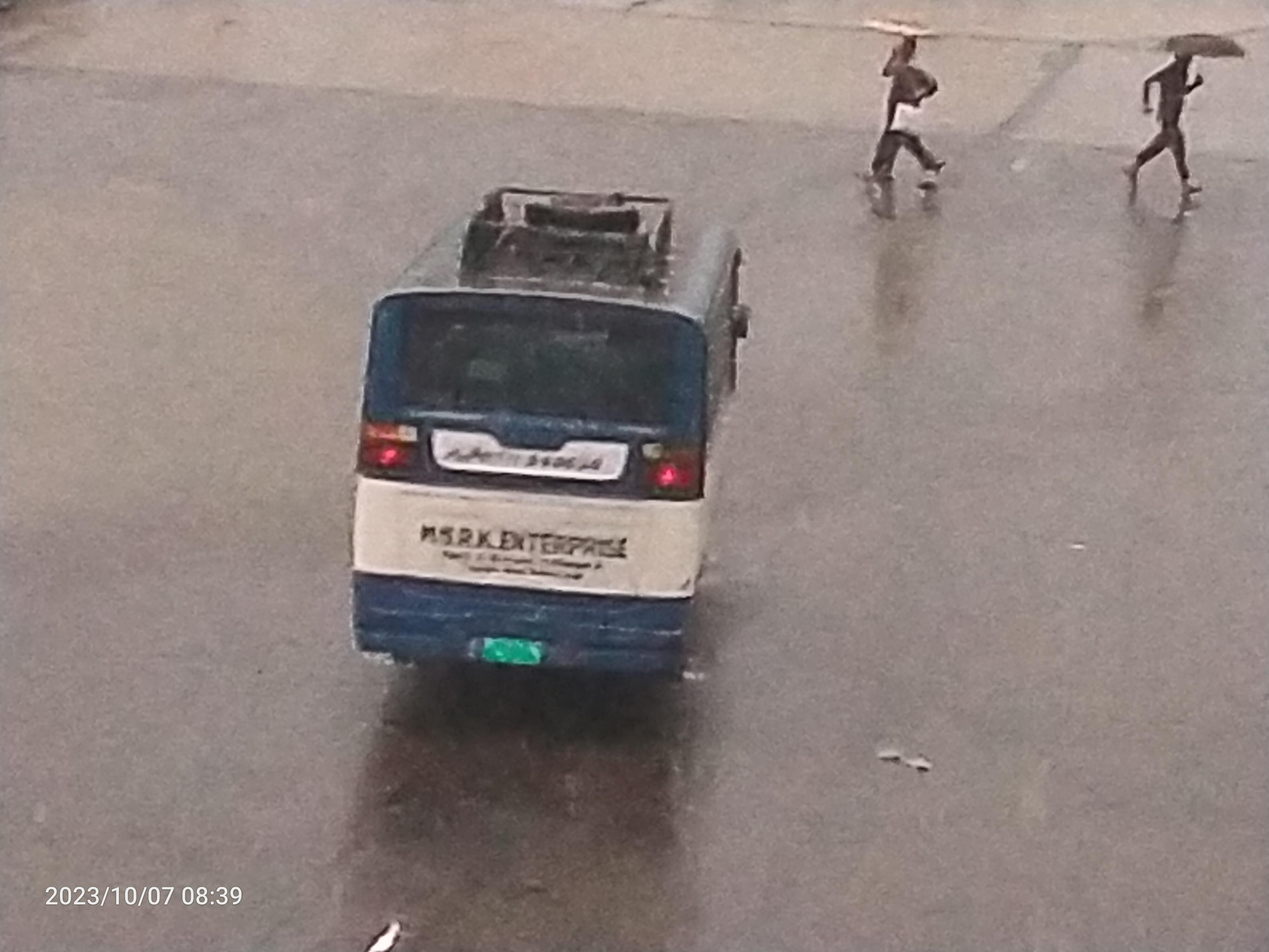Bus: (313, 145, 799, 770)
